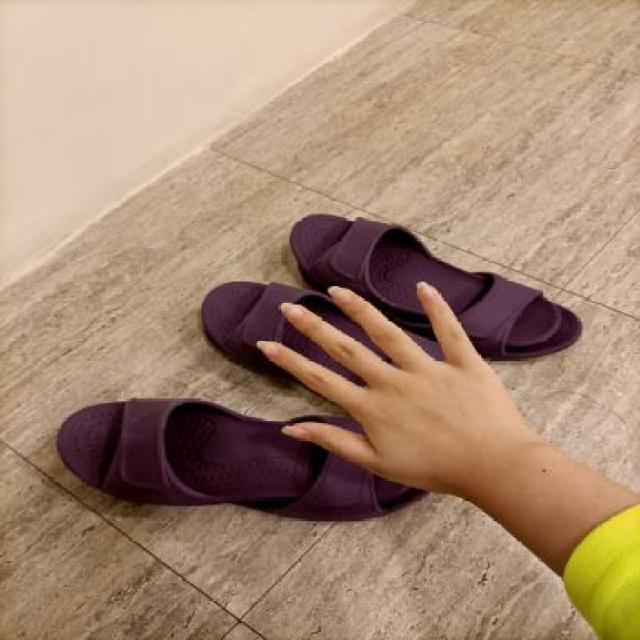bare_hand: (240, 261, 562, 508)
